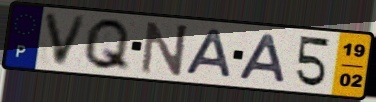5: (294, 34, 331, 88)
A: (182, 27, 234, 80), (237, 32, 289, 85)
N: (139, 20, 191, 77)
Q: (80, 17, 133, 74)
V: (41, 10, 91, 69)
